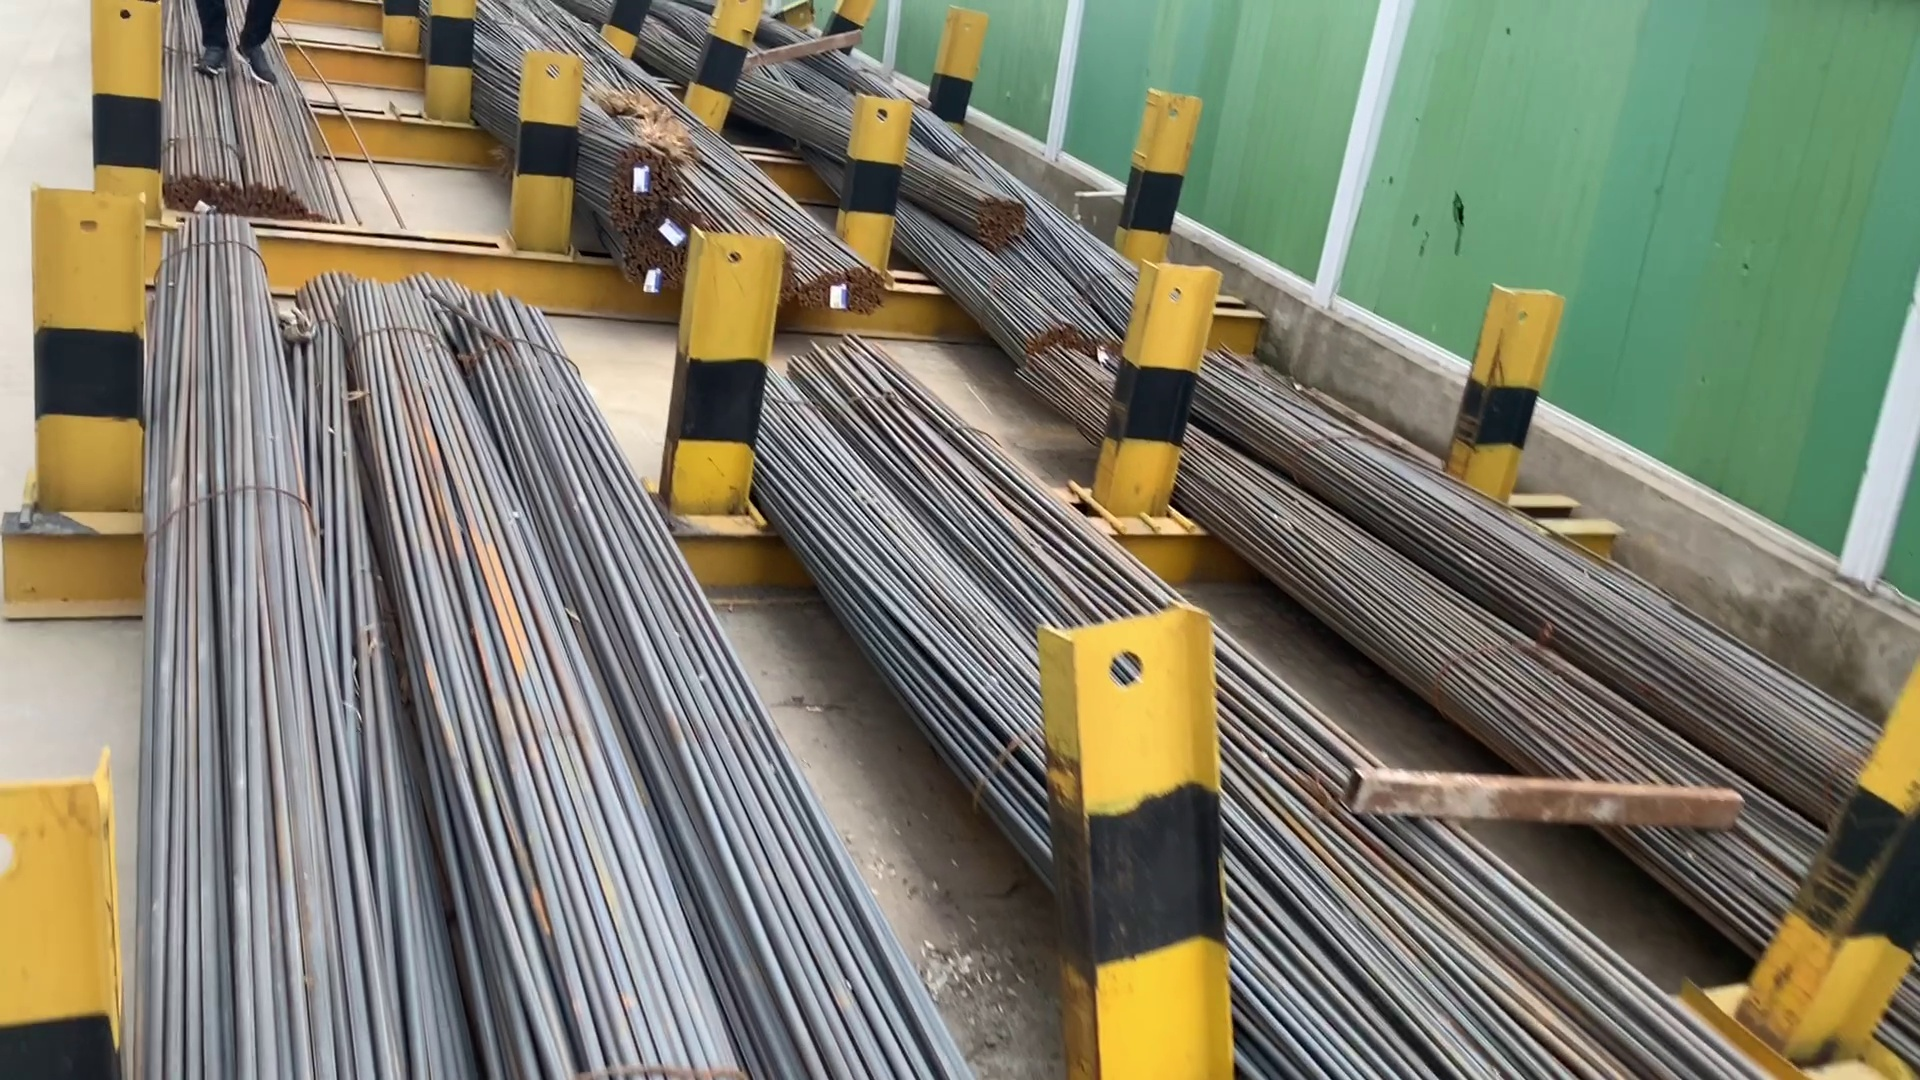rebar: (611, 211, 703, 280), (596, 131, 665, 218), (160, 157, 245, 204), (806, 265, 891, 309), (253, 175, 331, 219), (976, 191, 1027, 252)
